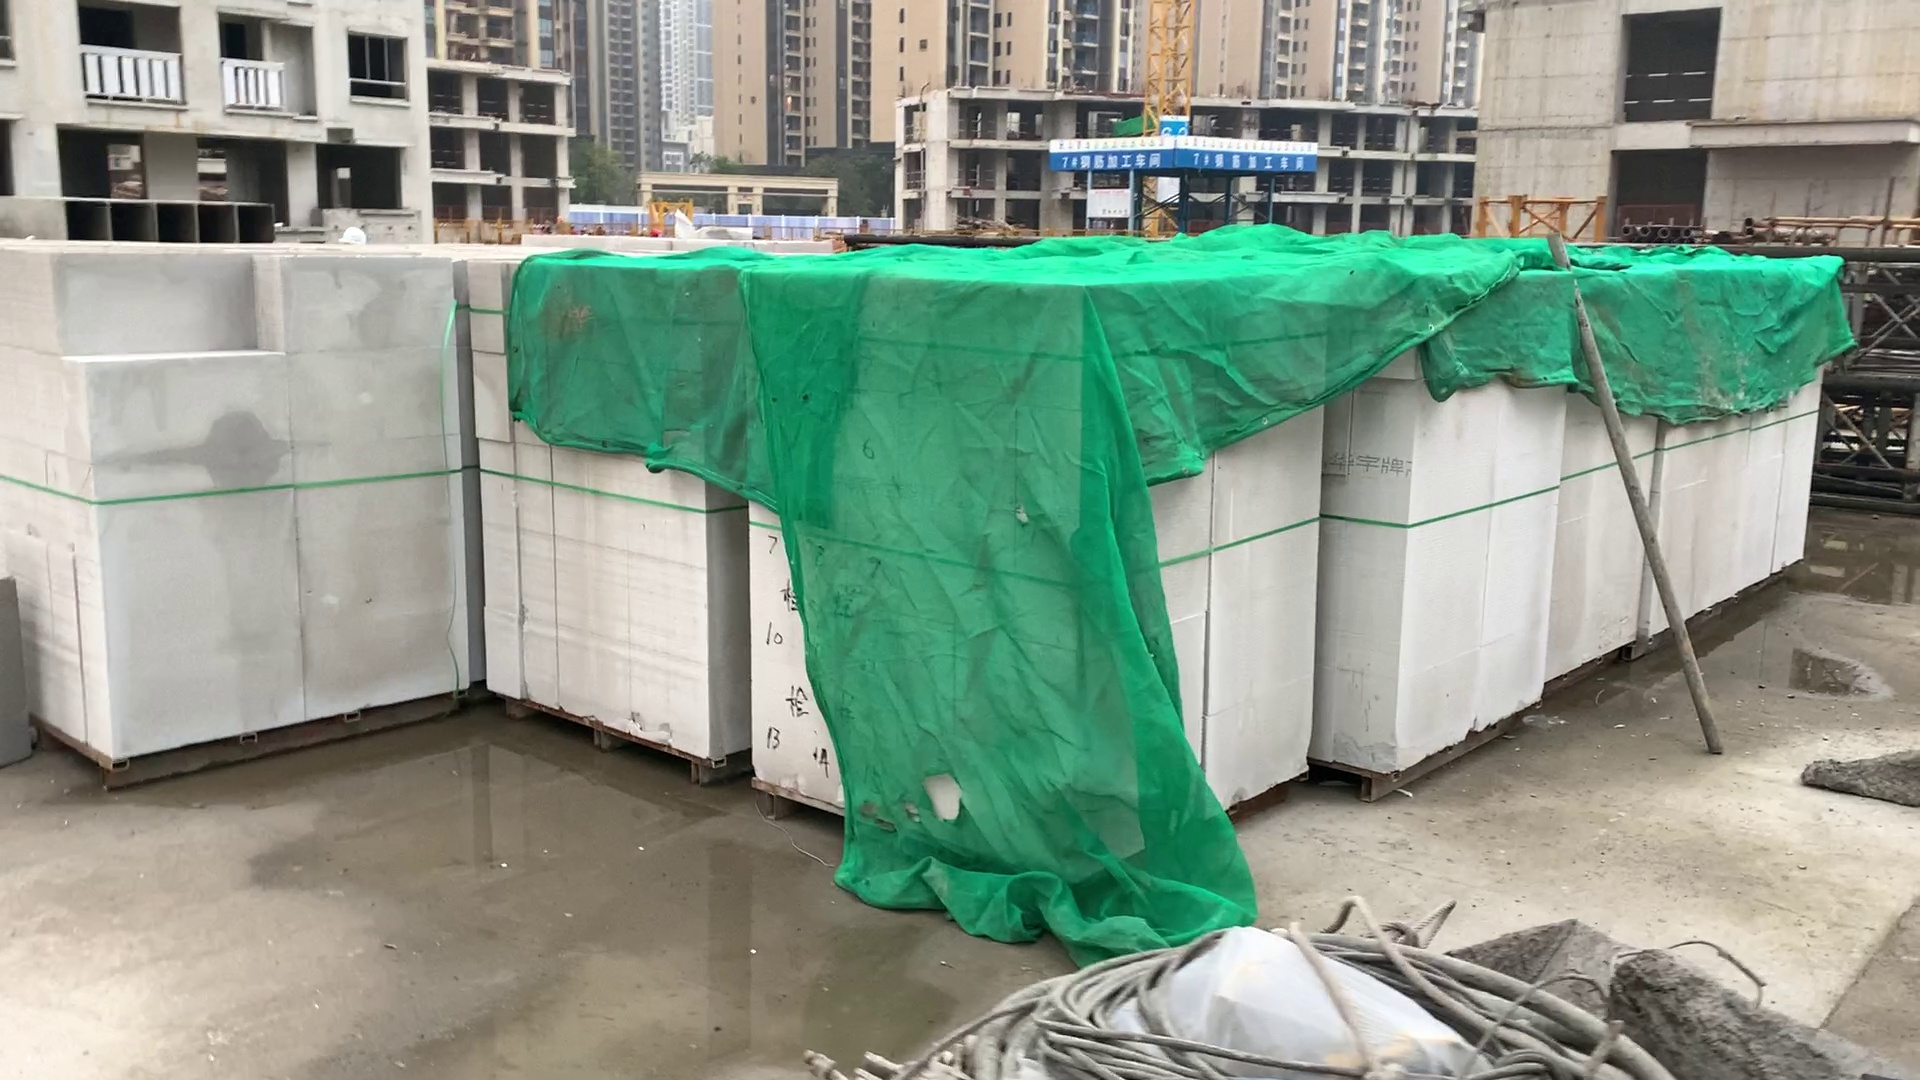brickwork: (11, 243, 469, 745), (749, 269, 1096, 849), (465, 253, 723, 767), (1668, 276, 1822, 638), (1327, 276, 1419, 783), (1563, 277, 1638, 676)
